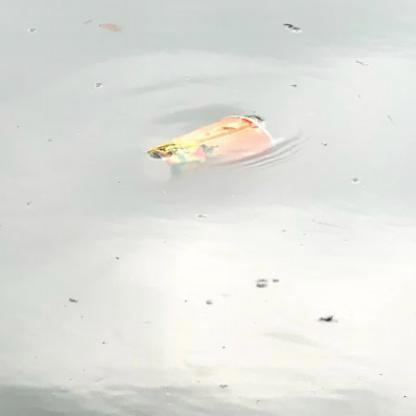Trash: (147, 106, 298, 176)
